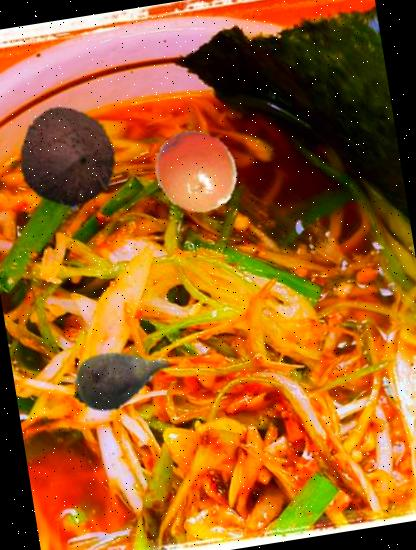Beetroot: (57, 316, 182, 441)
Cocos: (6, 94, 130, 218)
Tangelo: (147, 122, 247, 222)
